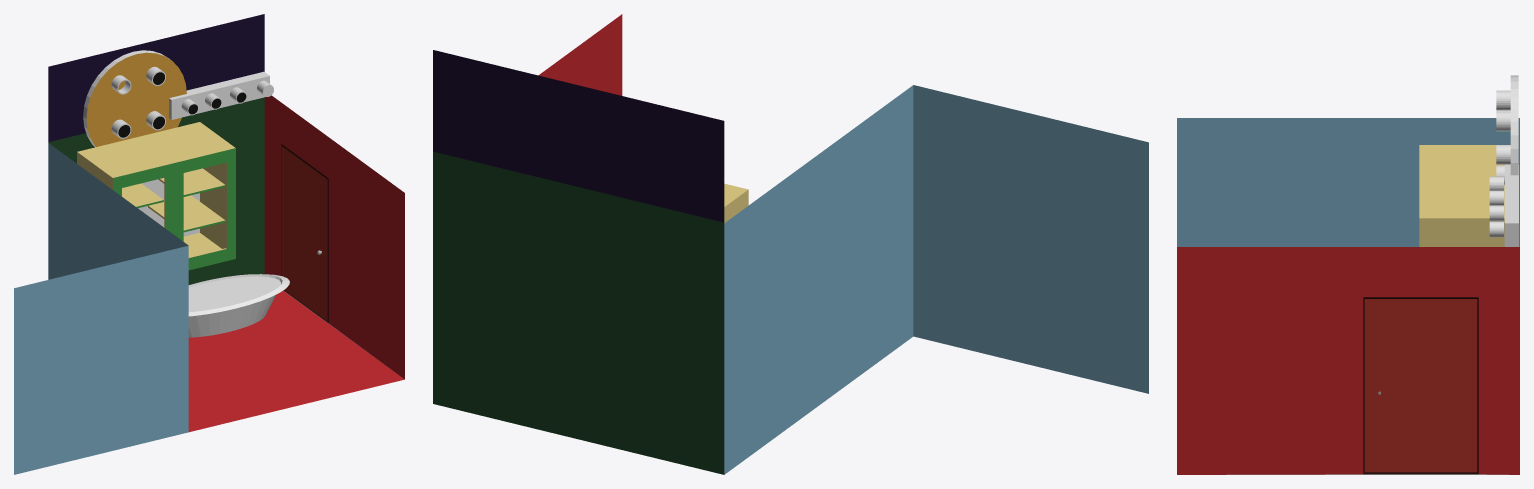
File: giant_yellow_head.glb
The picture shows the model from 3 angles, left to right: view 1: azimuth 30°, elevation 25°; view 2: azimuth 150°, elevation 25°; view 3: azimuth 270°, elevation 25°; orthographic projection. The views are drawn at different scales.
Parts seen in each view (by area): view 1: Plane; view 2: Plane; view 3: Plane.
Part boxes in pixels (x1=…): Plane: x1=14, y1=14, x2=404, y2=474; Plane: x1=433, y1=14, x2=1148, y2=474; Plane: x1=1177, y1=75, x2=1519, y2=474.
Bounding box in the file's own units: 5.42 × 3.48 × 3.37.
